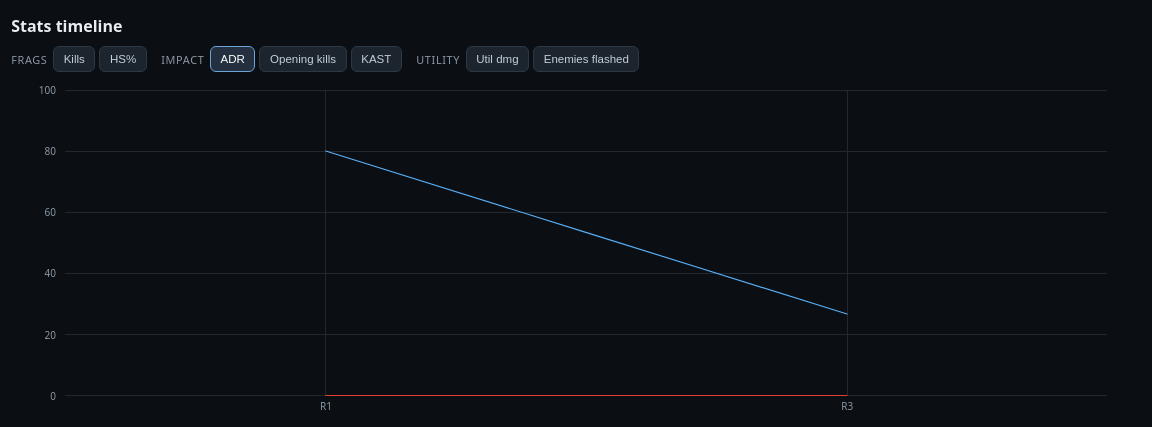
StatsTimeline › switches the plotted stat on the cumulative chart
Click the button "Kills": (74, 59) [53, 46, 95, 72]
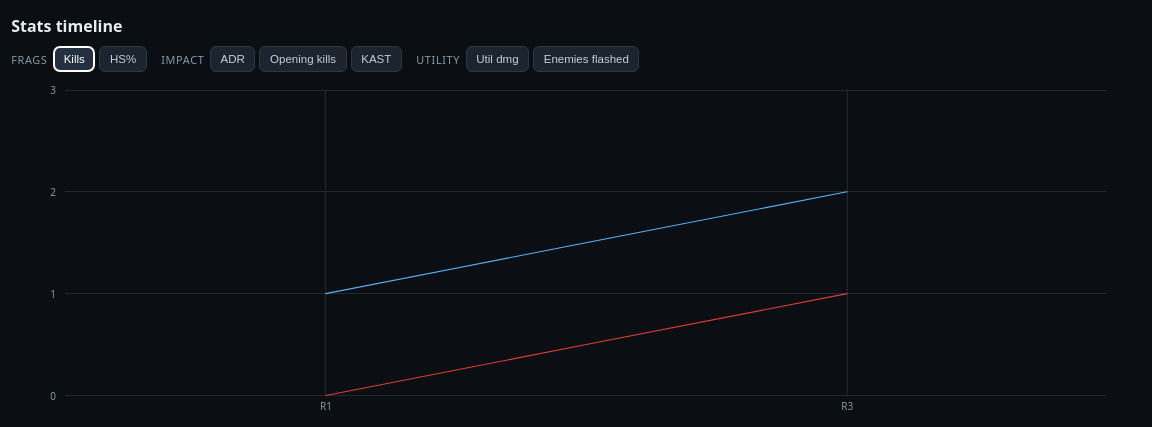
expect the icon named "Kills cumulative" is shown: met
